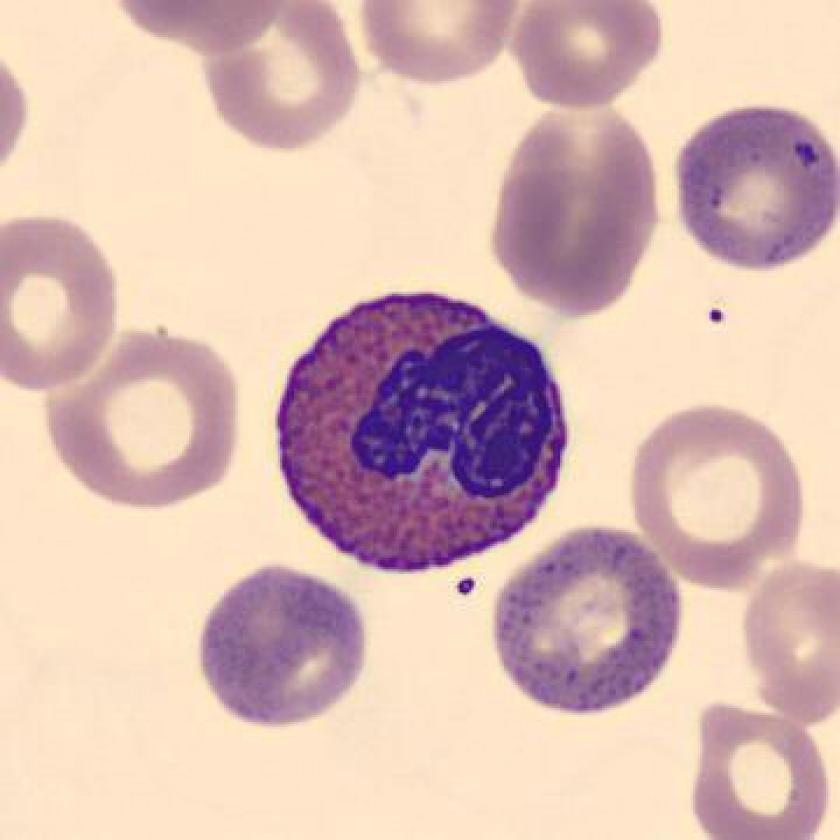eosinophil: (267, 281, 584, 589)
